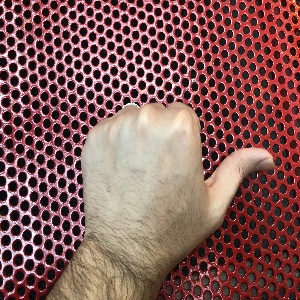hand: (80, 101, 275, 253)
